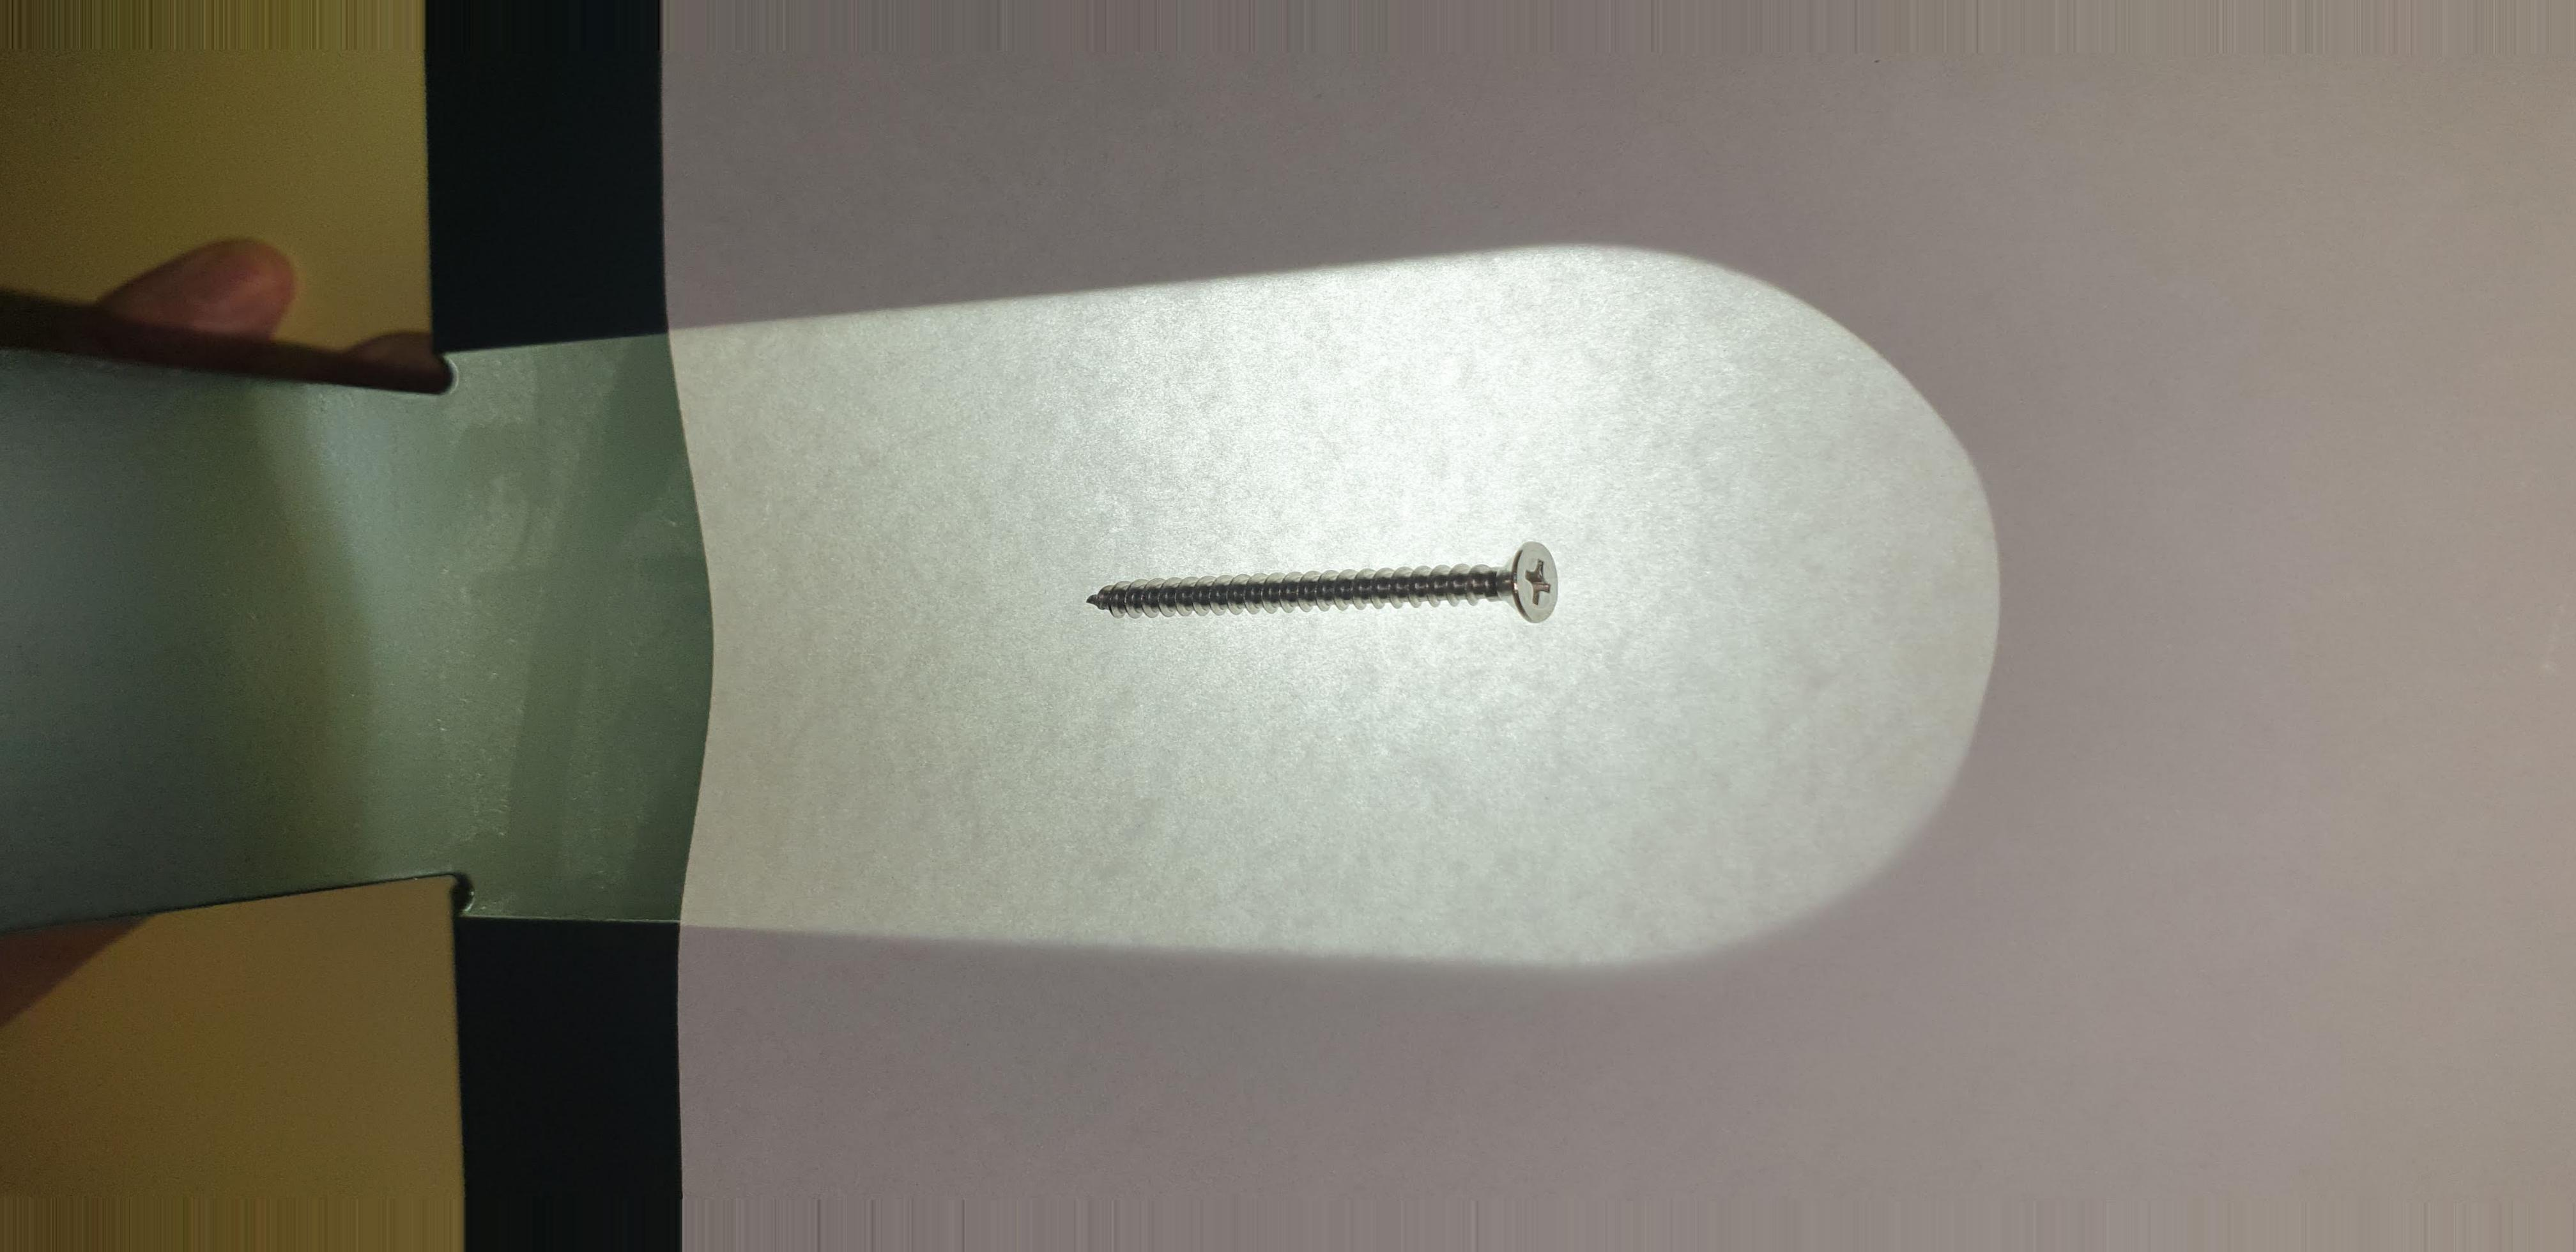fastener: (1056, 531, 1597, 638)
